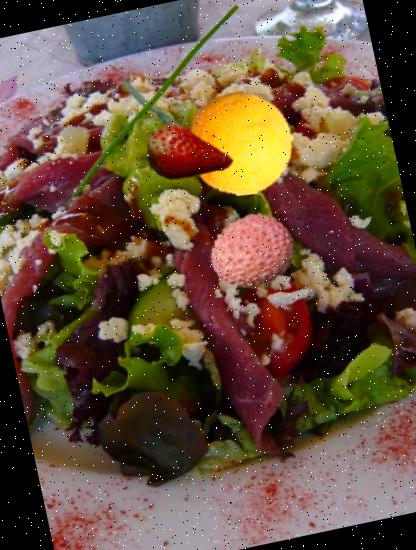Cantaloupe: (181, 83, 303, 204)
Lychee: (200, 198, 304, 301)
Strawberry: (138, 99, 242, 202)
